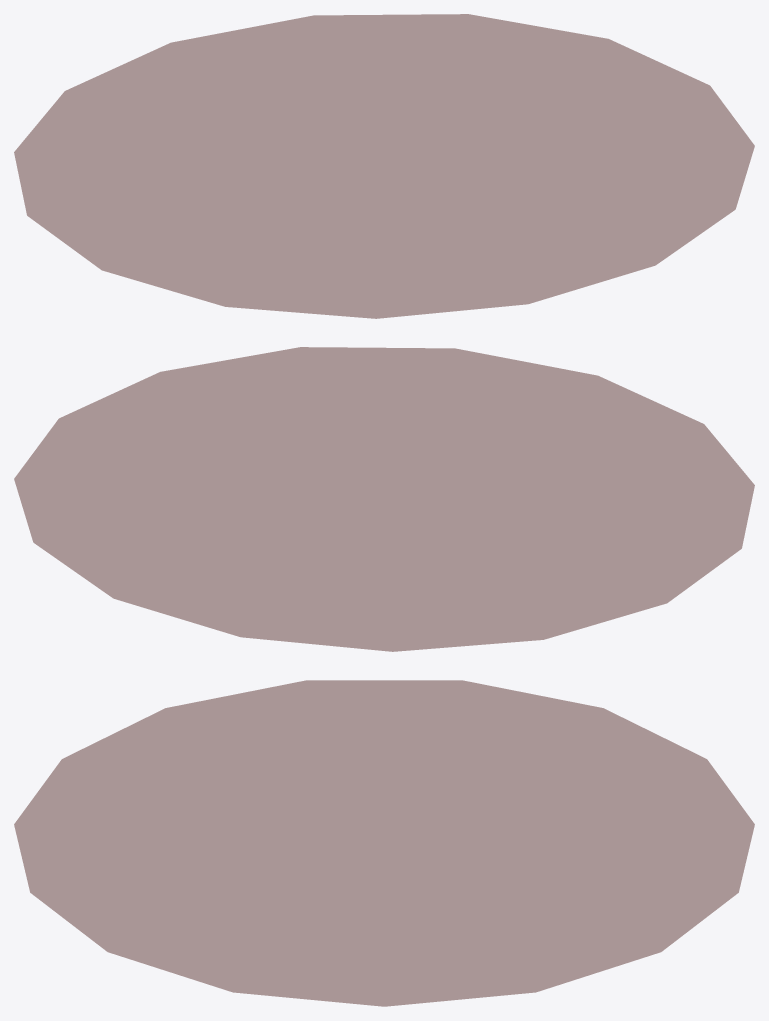
Rendered from ACT2_Carpet_Round_fin.fbx.
The picture shows the model from 3 angles, top to bottom: view 1: azimuth 30°, elevation 25°; view 2: azimuth 150°, elevation 25°; view 3: azimuth 270°, elevation 25°; orthographic projection. The views are drawn at different scales.
Visible parts, largest first — view 1: Carpet_round; view 2: Carpet_round; view 3: Carpet_round.
Boxes of the visible parts, box(x1,y1,x2,y2) form: Carpet_round: box(14, 14, 754, 318); Carpet_round: box(14, 347, 754, 651); Carpet_round: box(14, 680, 754, 1006).
Size of the model in its own units: 253 by 3.96e-05 by 243.
